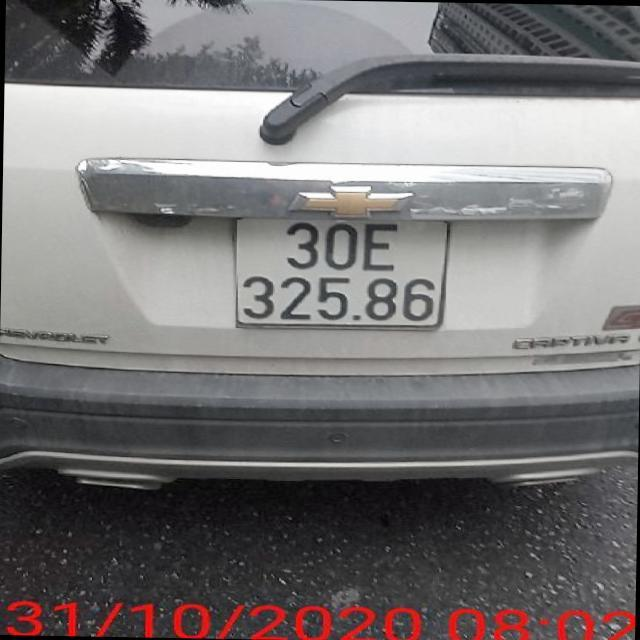plate: (228, 207, 459, 331)
